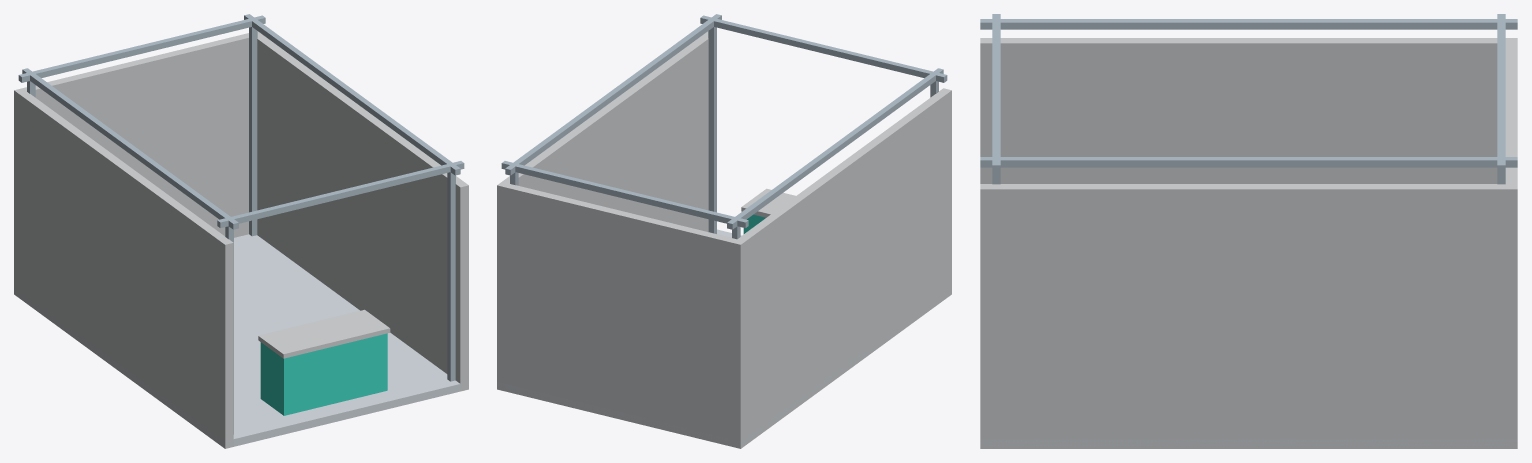
3 views of the same model, side by side, from view 1: azimuth 30°, elevation 25°; view 2: azimuth 150°, elevation 25°; view 3: azimuth 270°, elevation 25° (orthographic). The views are drawn at different scales.
Parts seen in each view (by area): view 1: Exhibition Booth Concept; view 2: Exhibition Booth Concept; view 3: Exhibition Booth Concept.
Part boxes in pixels (<box>): Exhibition Booth Concept: <box>14,14,468,448</box>; Exhibition Booth Concept: <box>497,14,951,448</box>; Exhibition Booth Concept: <box>980,14,1517,448</box>.
Size of the model in its own units: 4 by 3.49 by 6.
